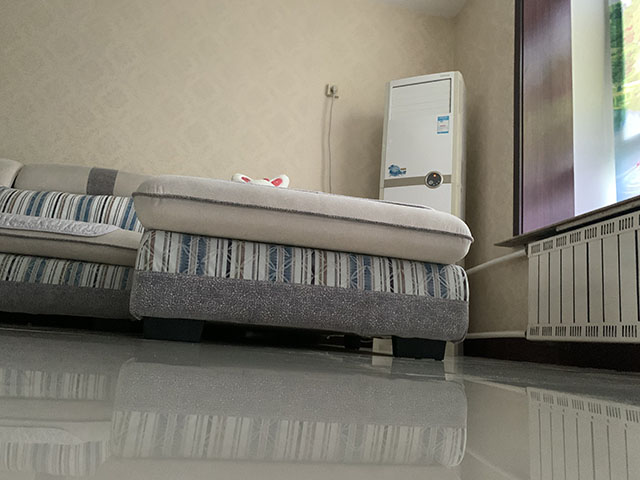sofa: (1, 156, 475, 363)
